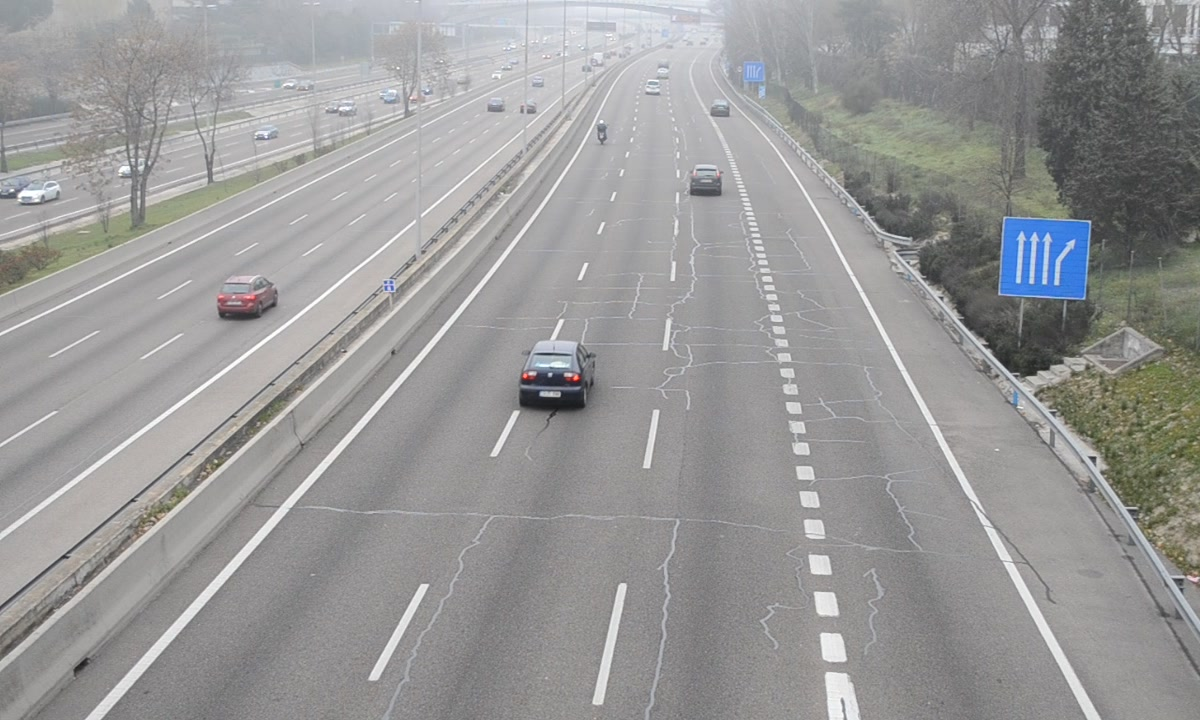car: (518, 338, 596, 411), (687, 161, 723, 196), (710, 100, 729, 117)
motorcycle: (595, 120, 607, 149)
